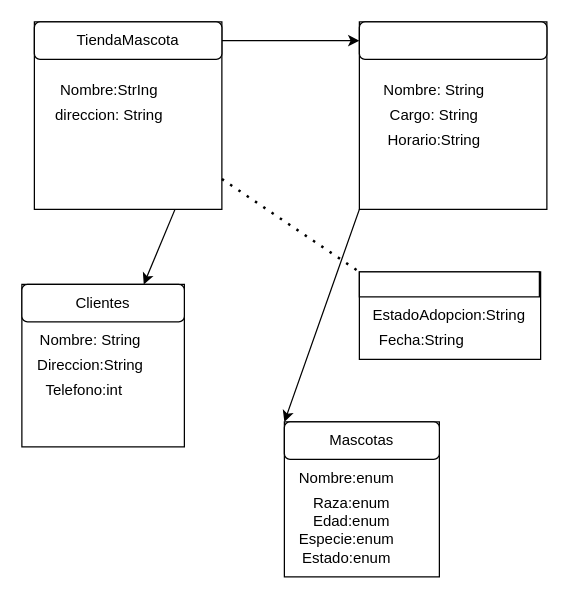
This 569x599 diagram has some shape labels left out. The centre of each missing label's shape, as x and y in pixels:
Empleados: (452,40)
Seguimiento: (448,284)
